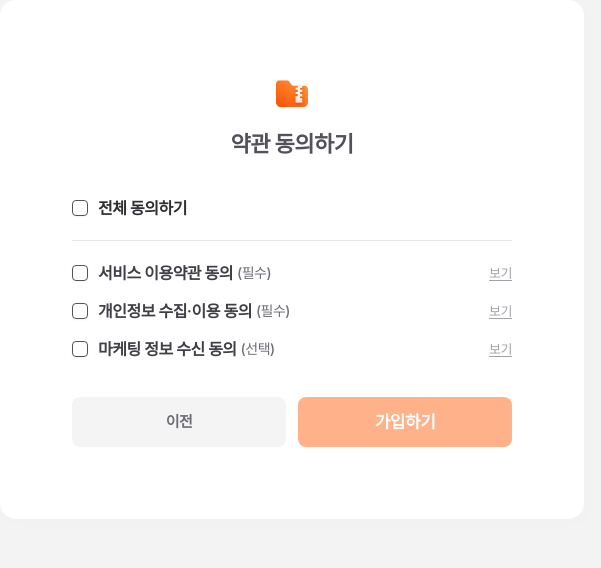
Test: SignupTermsForm › preserves the draft and shows the API error after failure
Click the checkbox named "전체 동의하기" next to "전체 동의하기" at (80, 208), box [72,200,88,216]
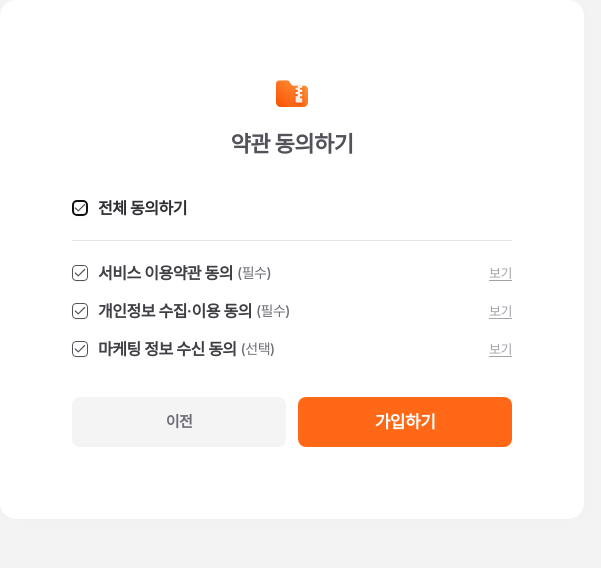
Click the button "가입하기" at (405, 422), box [298,397,512,447]
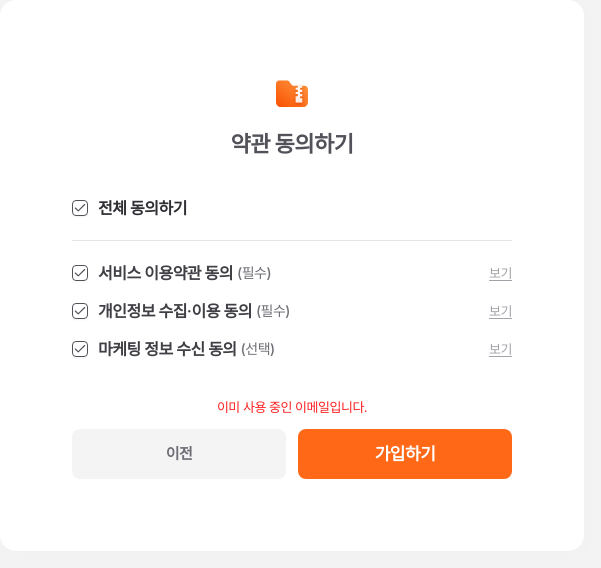
Expected: the message reads "이미 사용 중인 이메일입니다.", [217,399,367,415]
